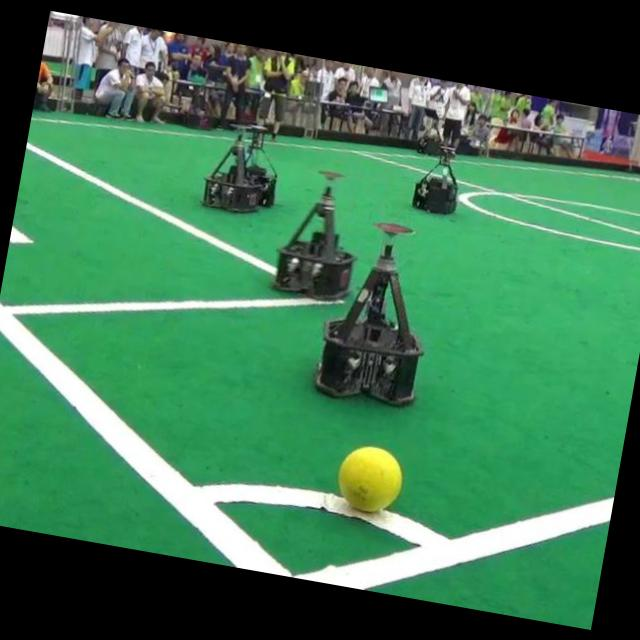ball: (337, 446, 402, 511)
robot: (315, 244, 422, 404), (274, 171, 354, 299), (202, 133, 262, 211), (412, 146, 457, 213), (243, 126, 277, 206)
